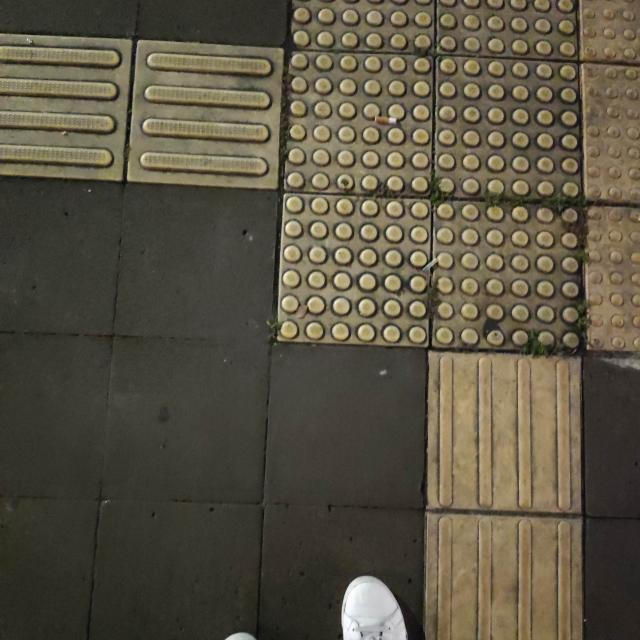kiri: (7, 0, 640, 490)
